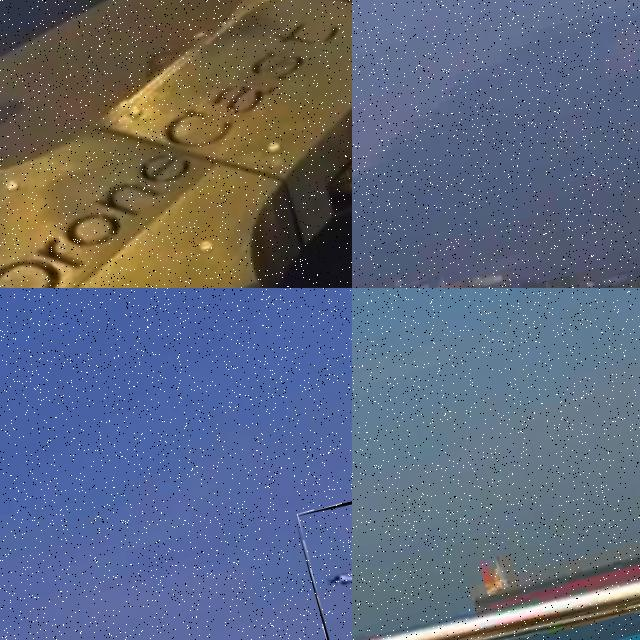drone: (0, 0, 352, 288), (294, 475, 352, 640)
